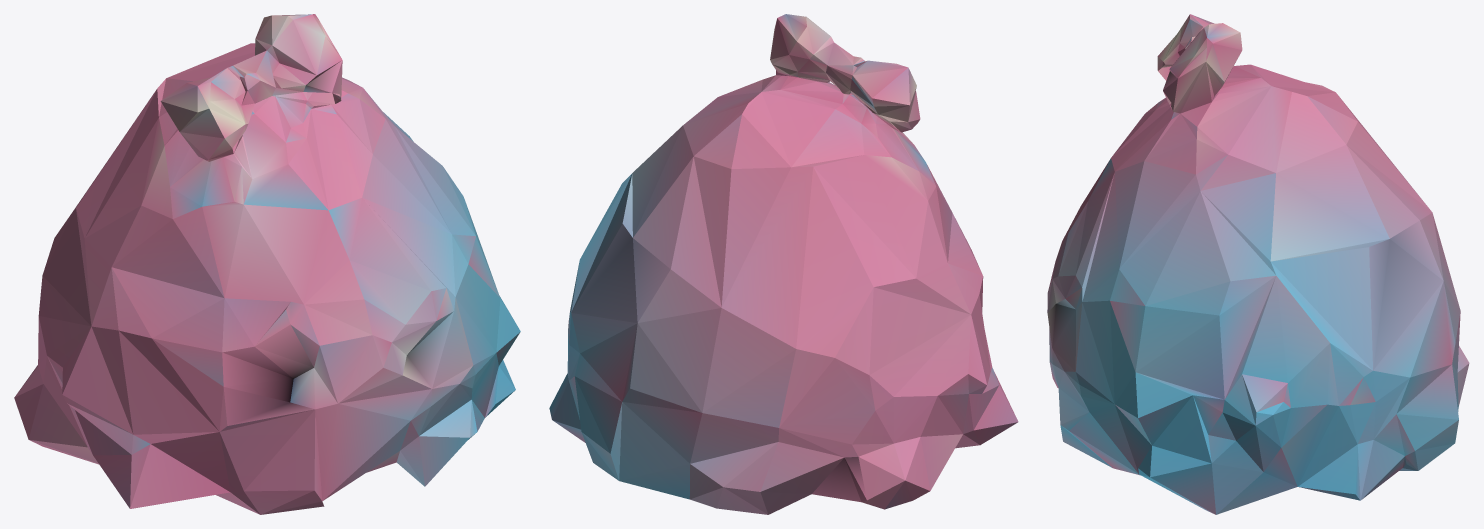
File: foe_slime_far_mobile.glb
The picture shows the model from 3 angles, left to right: view 1: azimuth 30°, elevation 25°; view 2: azimuth 150°, elevation 25°; view 3: azimuth 270°, elevation 25°; orthographic projection. The views are drawn at different scales.
Size of the model in its own units: 1.87 by 1.8 by 1.71.
